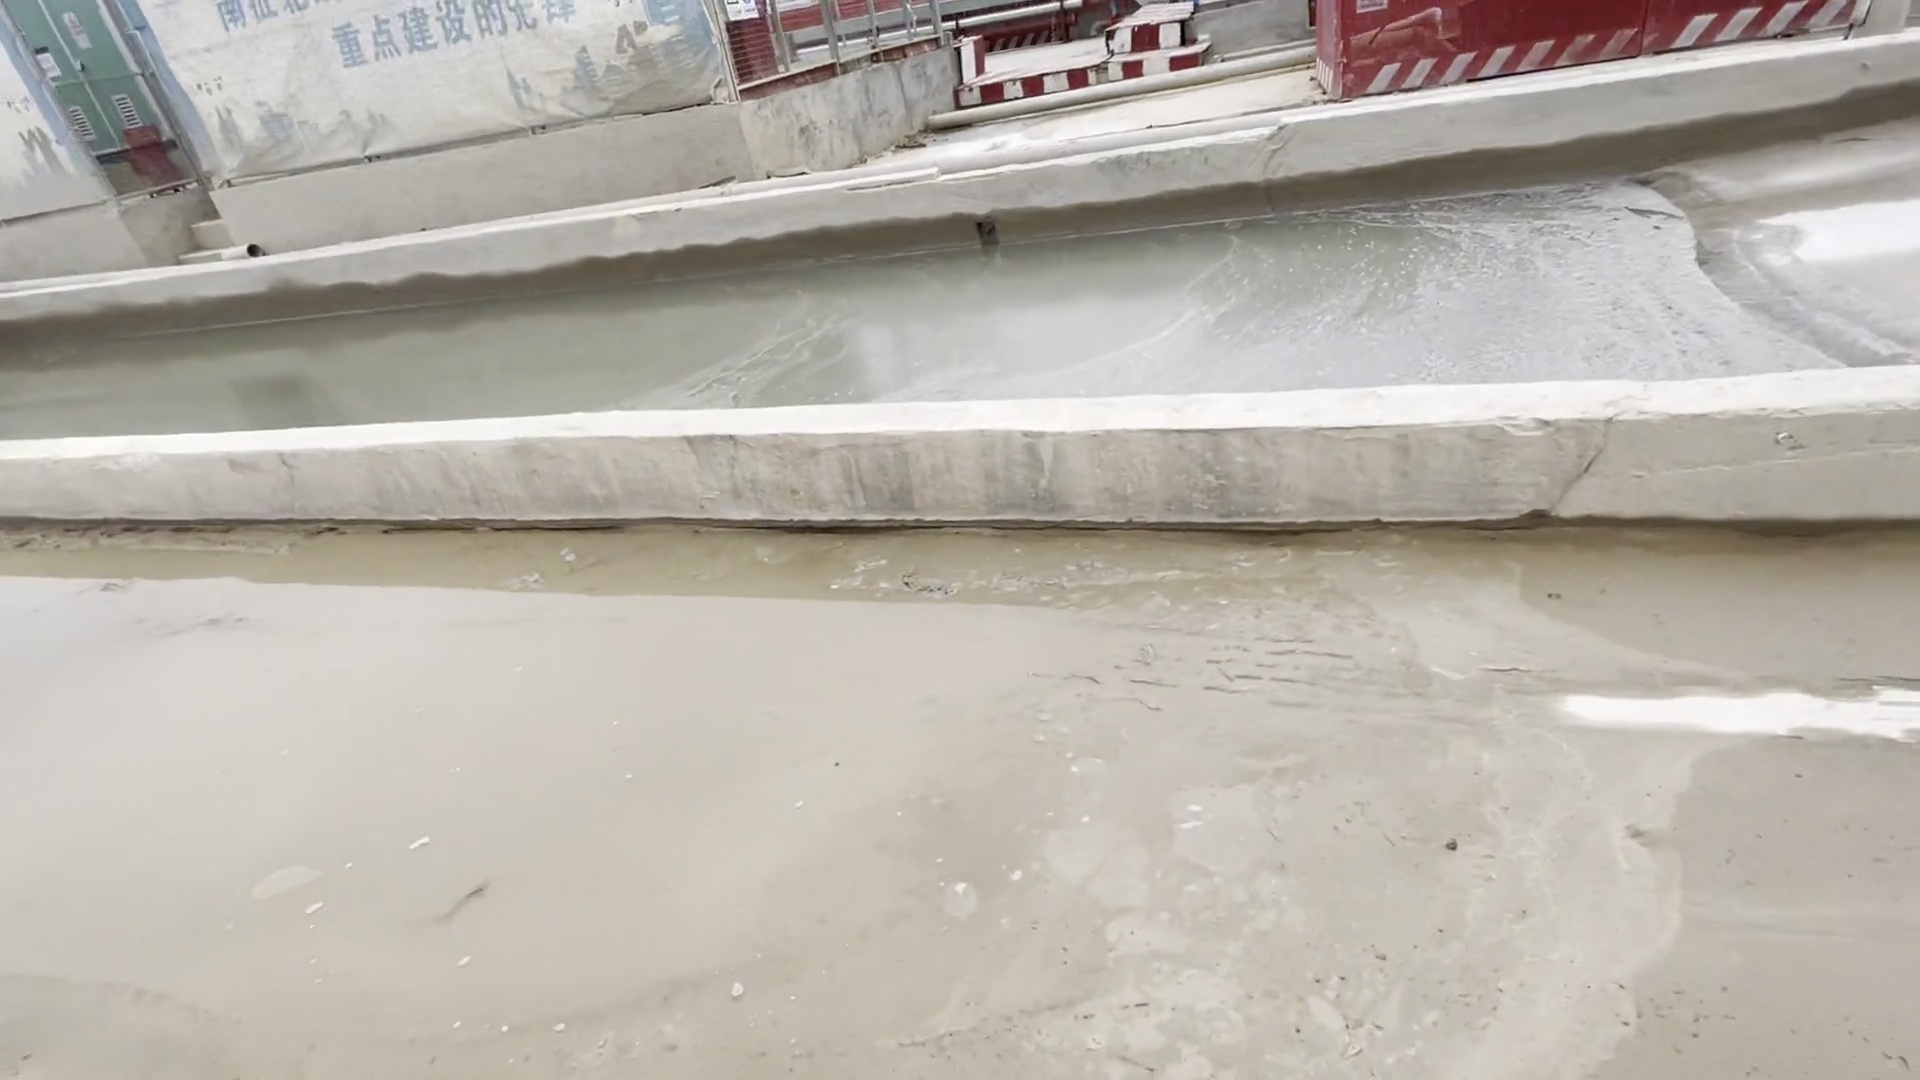slogan: (182, 1, 578, 80)
